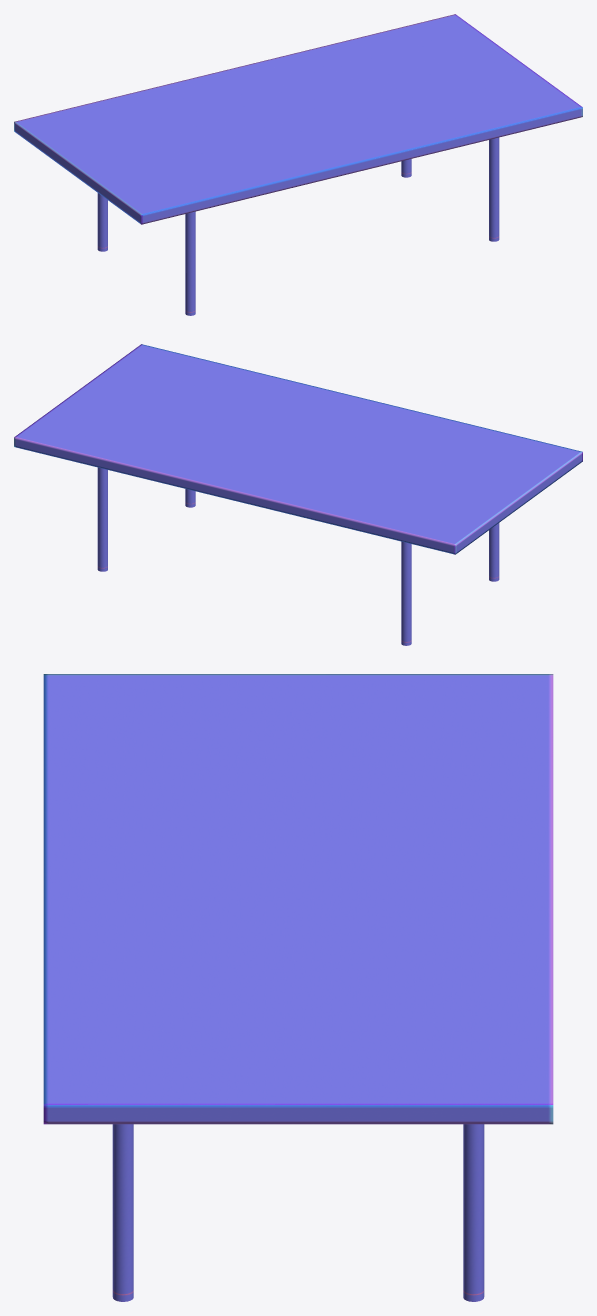
Rendered from Rosewood Dining by Mies van der Rohe.fbx.
3 renders of one model, top to bottom at view 1: azimuth 30°, elevation 25°; view 2: azimuth 150°, elevation 25°; view 3: azimuth 270°, elevation 25°, orthographic. The views are drawn at different scales.
Visible parts, largest first — view 1: Table; view 2: Table; view 3: Table.
Boxes of the visible parts, box(x1,y1,x2,y2) form: Table: box(14, 14, 582, 315); Table: box(14, 344, 582, 645); Table: box(43, 674, 553, 1301).
Bounding box in the file's own units: 244 × 68.58 × 122.
1 material, 1 textured.
